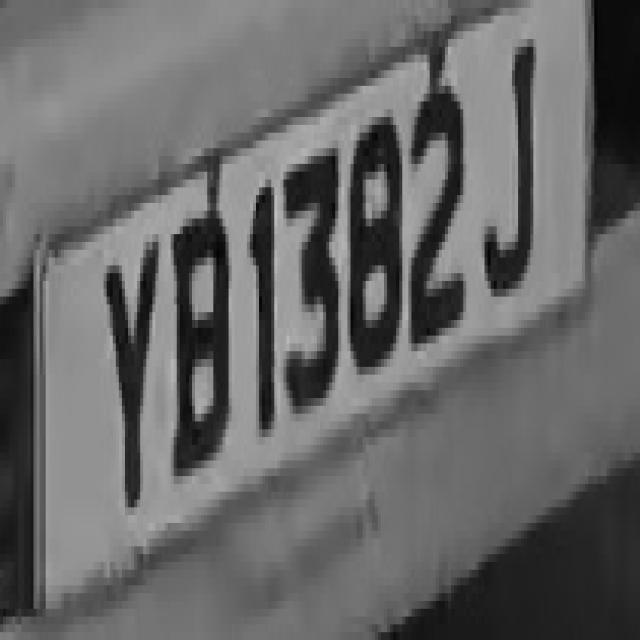1: (247, 133, 283, 484)
2: (406, 63, 470, 374)
3: (272, 140, 348, 430)
8: (338, 86, 402, 382)
B: (164, 203, 234, 499)
J: (478, 31, 540, 320)
Y: (92, 211, 162, 507)
